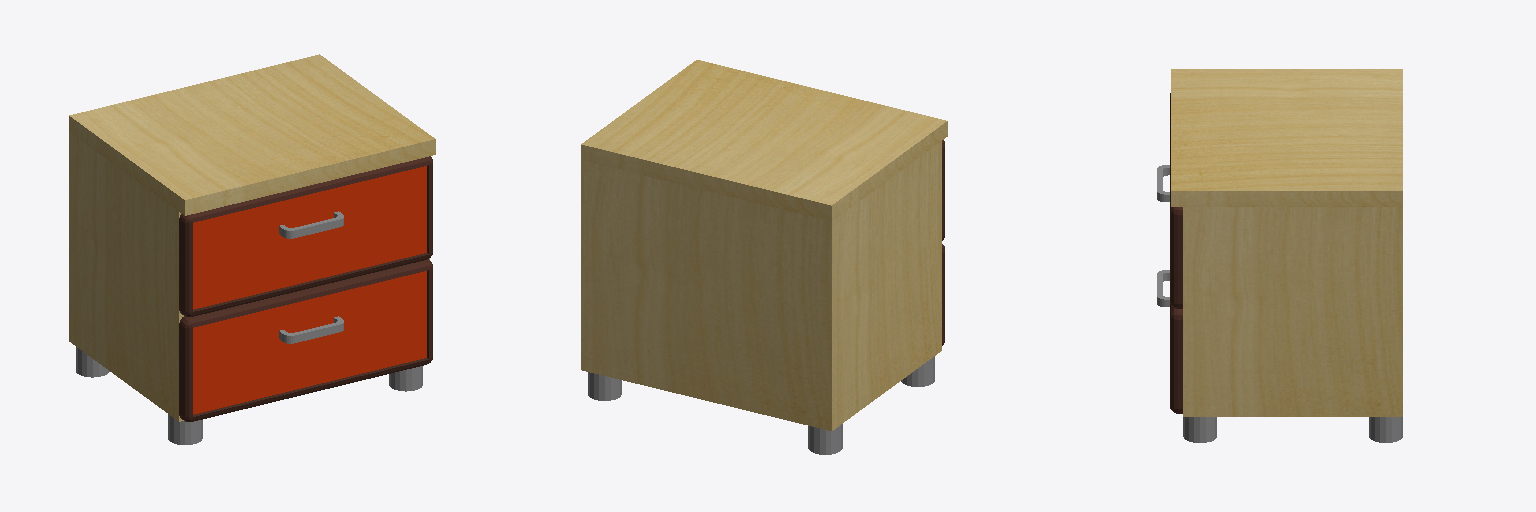
3 views of the same model, side by side, from view 1: azimuth 30°, elevation 25°; view 2: azimuth 150°, elevation 25°; view 3: azimuth 270°, elevation 25° (orthographic).
Parts seen in each view (by area): view 1: Box18_8, Box17_1, Box34_7, Box33_2, ChamferBox34_3, ChamferBox35_5, Cylinder09_9, Line61_4, Line62_6, Cylinder10_10, Cylinder12_12; view 2: Box17_1, Box18_8, Cylinder12_12, Cylinder11_11, Cylinder09_9; view 3: Box17_1, Box18_8, ChamferBox35_5, ChamferBox34_3, Cylinder10_10, Cylinder11_11.
Part boxes in pixels (left/top/right/bottom): Box18_8: left=69, top=54, right=435, bottom=215; Box17_1: left=69, top=132, right=429, bottom=421; Box34_7: left=193, top=166, right=426, bottom=309; Box33_2: left=193, top=271, right=426, bottom=414; ChamferBox34_3: left=179, top=259, right=432, bottom=421; ChamferBox35_5: left=179, top=156, right=432, bottom=316; Cylinder09_9: left=168, top=414, right=202, bottom=444; Line61_4: left=279, top=316, right=343, bottom=343; Line62_6: left=279, top=211, right=343, bottom=238; Cylinder10_10: left=389, top=366, right=422, bottom=391; Cylinder12_12: left=76, top=347, right=109, bottom=377; Box17_1: left=581, top=141, right=941, bottom=430; Box18_8: left=581, top=60, right=947, bottom=220; Cylinder12_12: left=808, top=424, right=842, bottom=454; Cylinder11_11: left=588, top=372, right=621, bottom=400; Cylinder09_9: left=901, top=356, right=934, bottom=386; Box17_1: left=1183, top=207, right=1402, bottom=416; Box18_8: left=1171, top=69, right=1402, bottom=206; ChamferBox35_5: left=1170, top=93, right=1182, bottom=308; ChamferBox34_3: left=1170, top=304, right=1182, bottom=413; Cylinder10_10: left=1183, top=417, right=1216, bottom=442; Cylinder11_11: left=1369, top=417, right=1402, bottom=442.
Bounding box in the file's own units: 1 × 0.96 × 0.85.
4 materials, 1 textured.